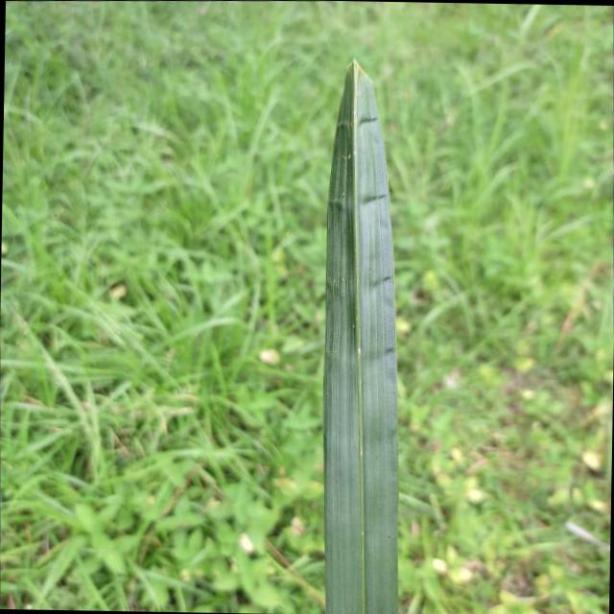Boron: (325, 48, 395, 614)
